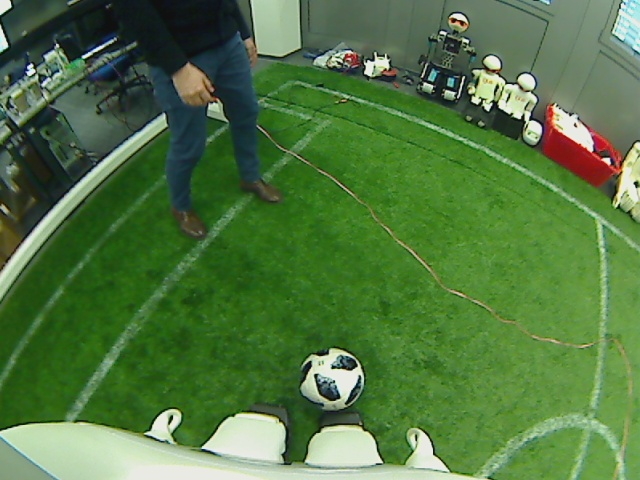ball: (296, 344, 366, 410)
